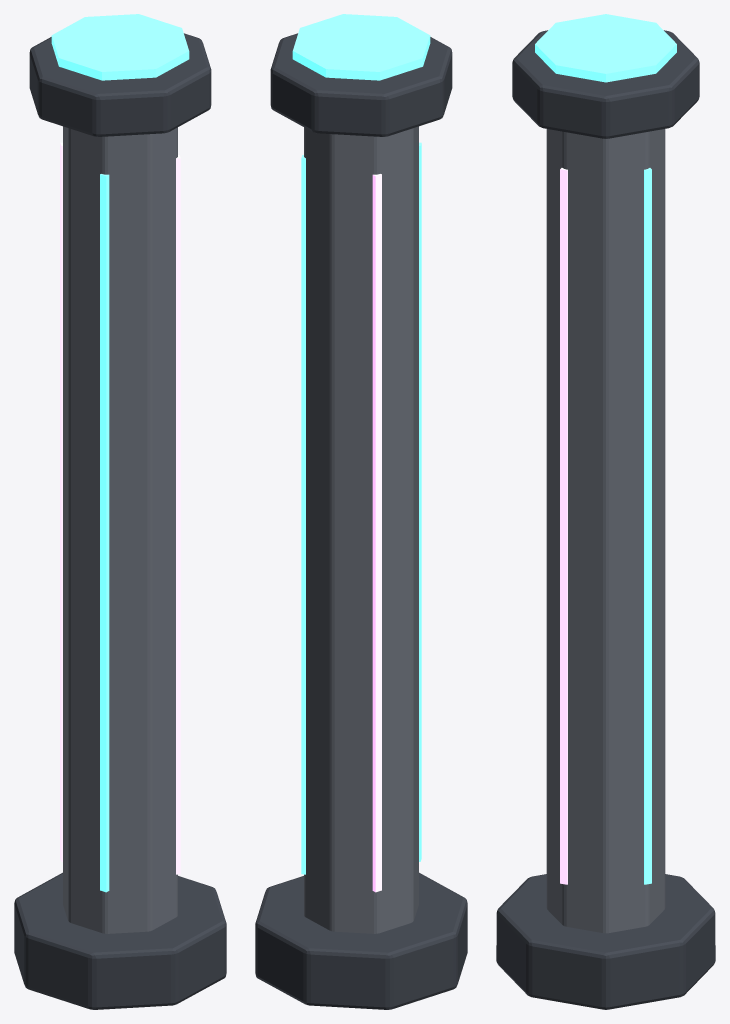
The model's file is pillar.glb.
3 views of the same model, side by side, from view 1: azimuth 30°, elevation 25°; view 2: azimuth 150°, elevation 25°; view 3: azimuth 270°, elevation 25° (orthographic).
Parts seen in each view (by area): view 1: Pillar; view 2: Pillar; view 3: Pillar.
Part boxes in pixels (<box>): Pillar: <box>14,14,226,1009</box>; Pillar: <box>255,14,467,1009</box>; Pillar: <box>496,14,715,1009</box>.
Size of the model in its own units: 1.39 by 6.45 by 1.39.
